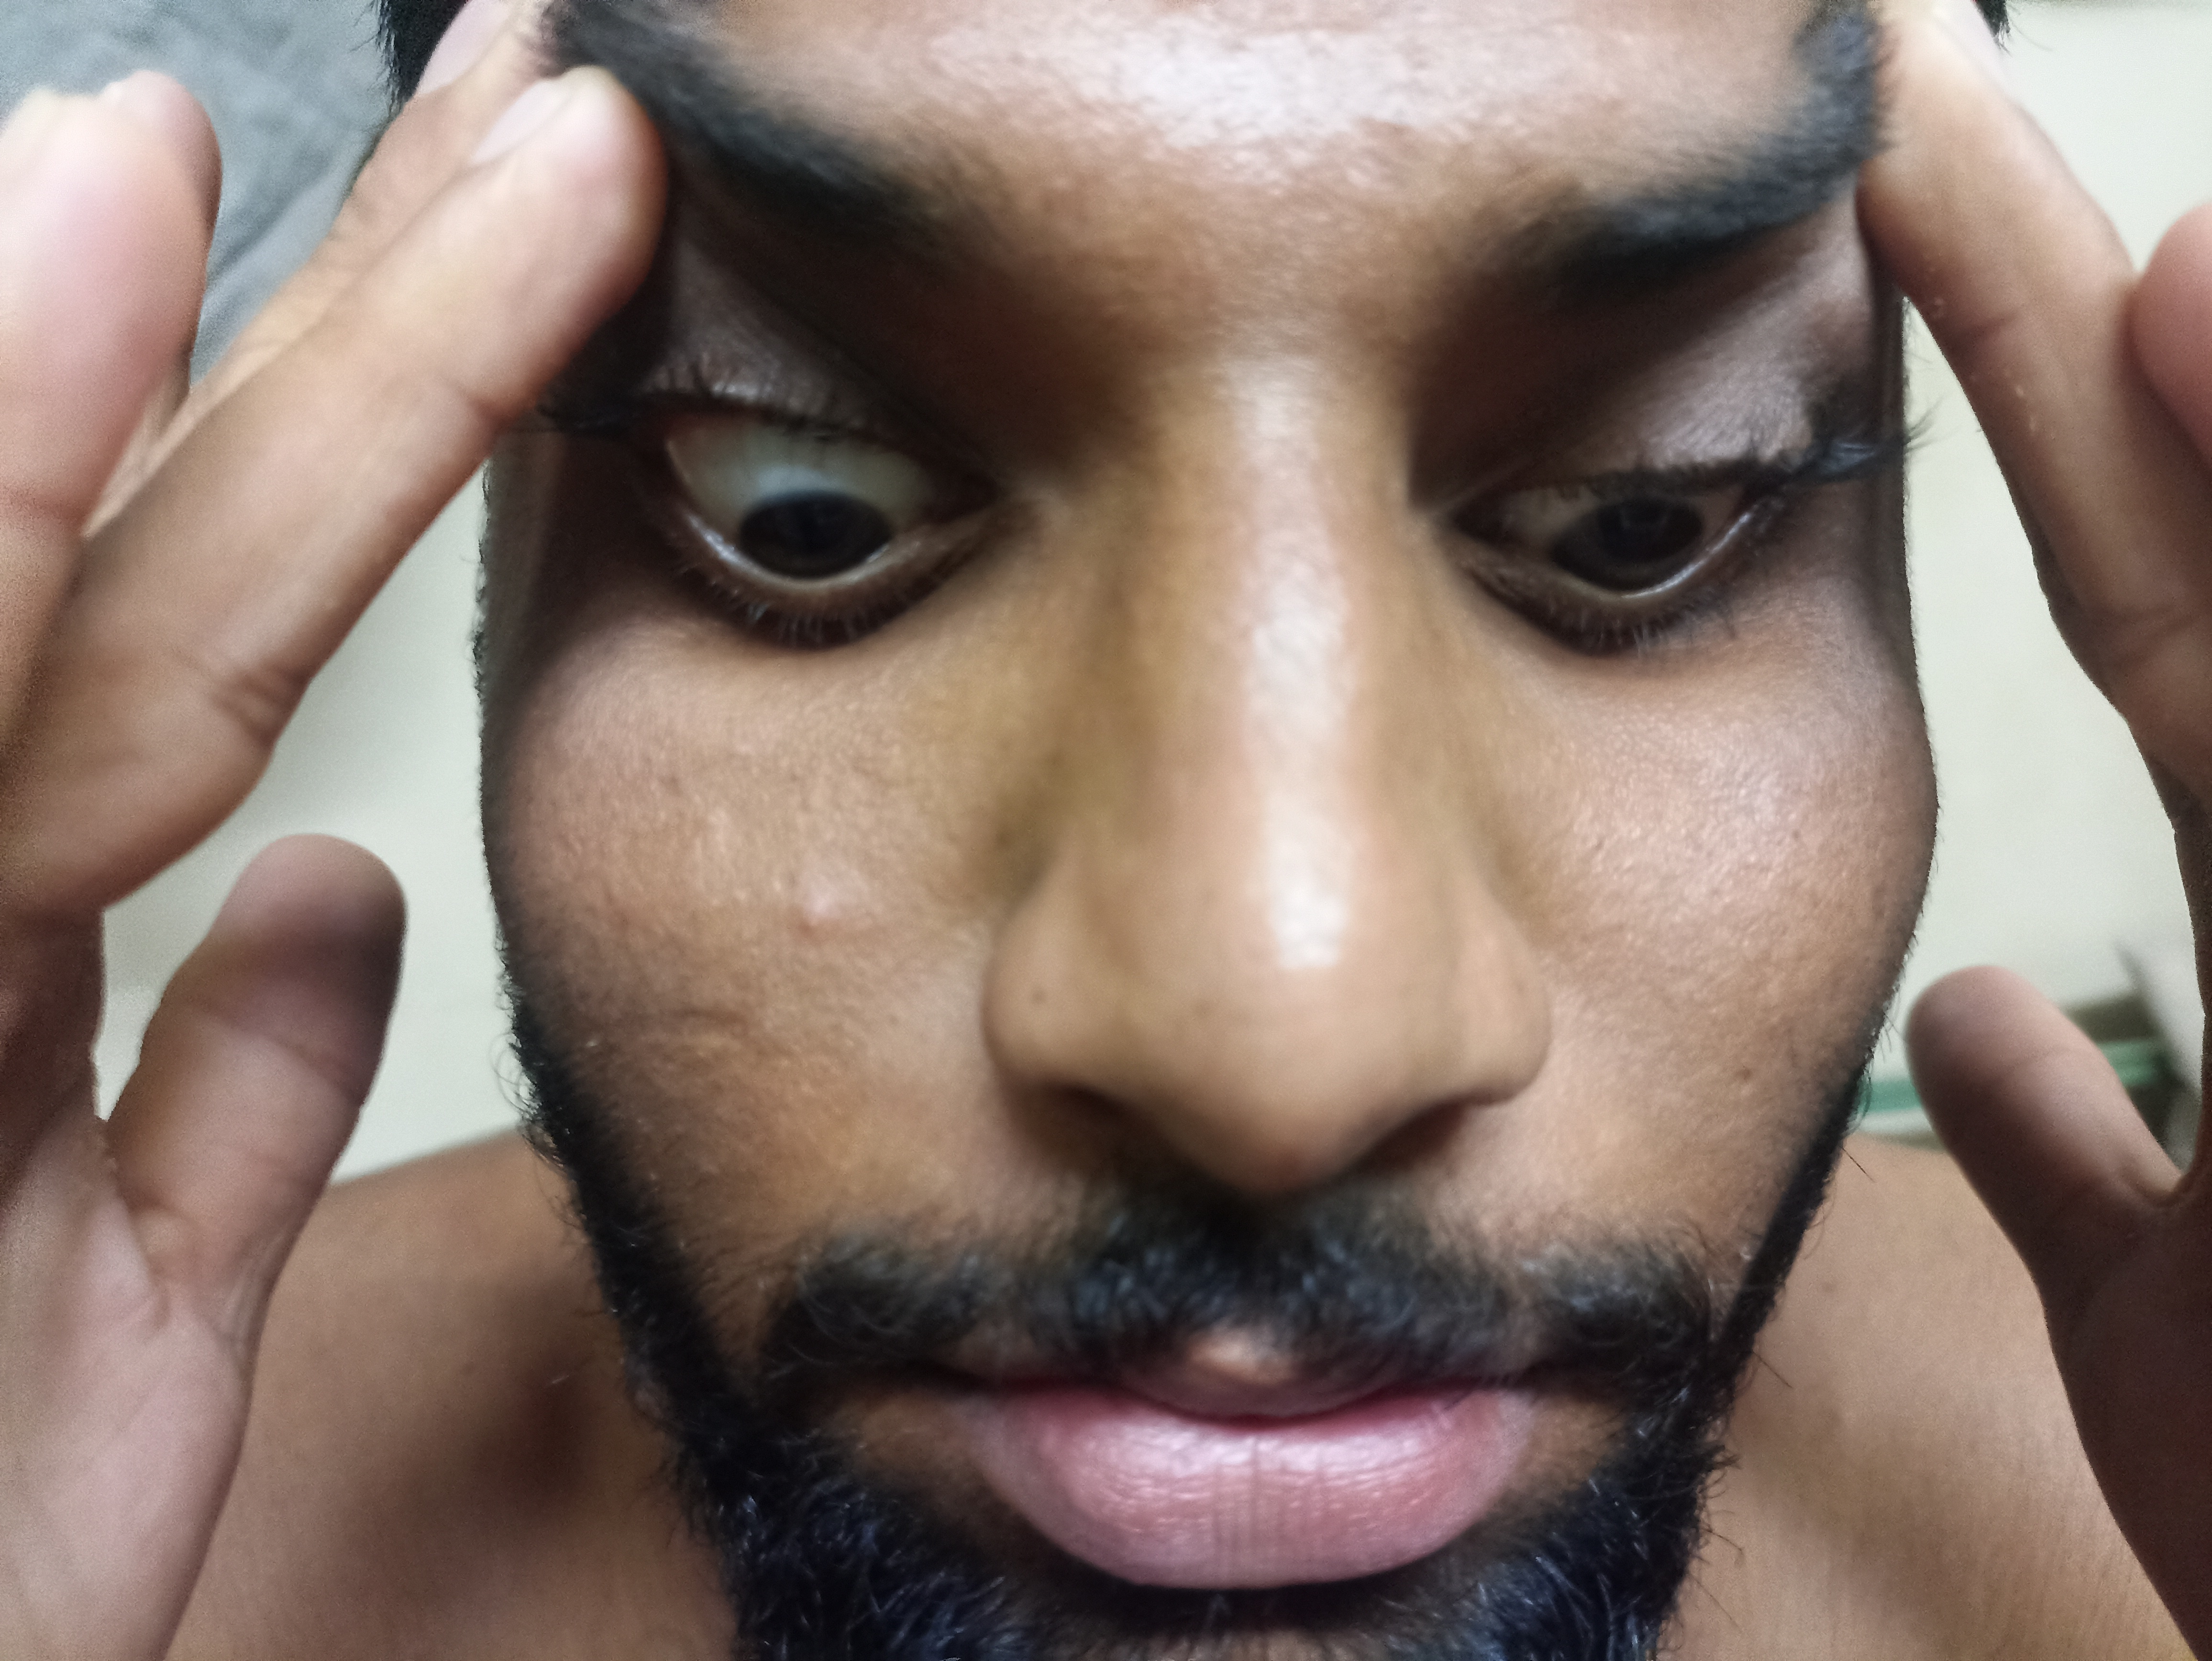EYE DOWN: (1343, 225, 1936, 769), (509, 291, 1003, 764)
